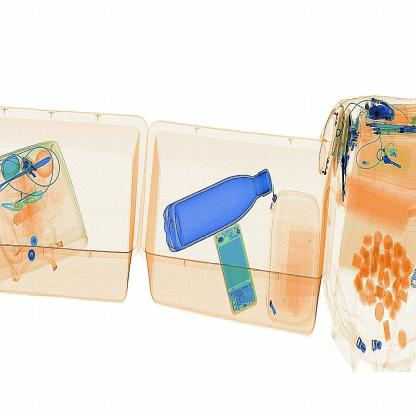knife: (330, 144, 364, 208)
